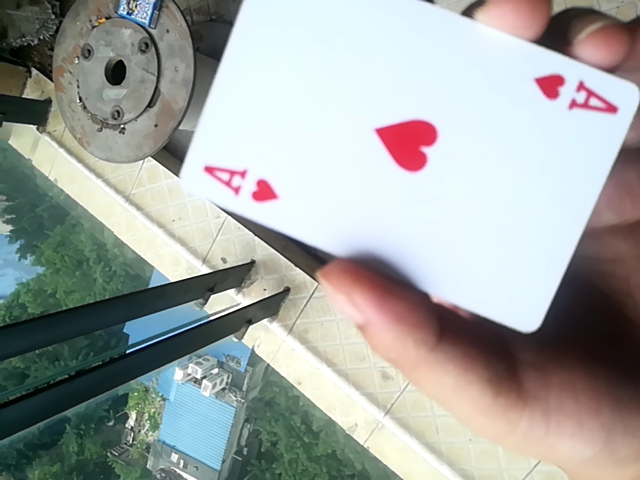hx a: (163, 1, 640, 342)
